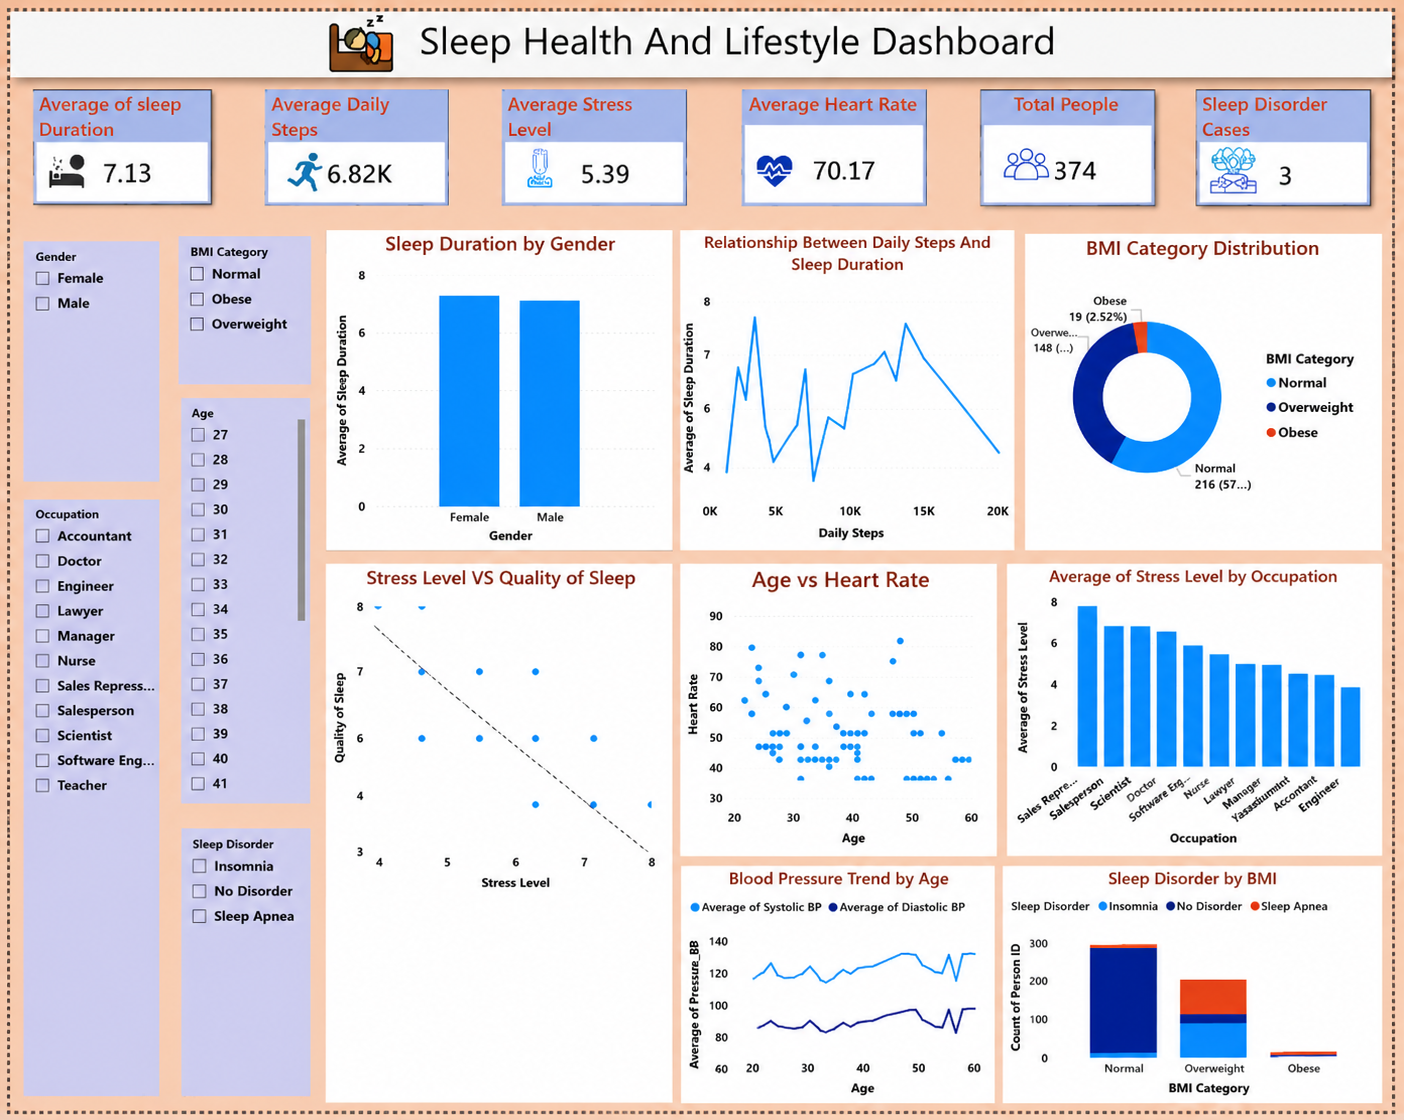

This screenshot's page, from the dashboard's own definition file:
{"tool":"powerbi","page":{"name":"Page 1","canvas":[1701,1296],"ordinal":0},"visuals":[{"type":"textbox","box":[0,0,1700.2,86.4],"z":0},{"type":"cardVisual","title":"Average of  sleep duration","fields":{"Data":["Avg(Sheet1.Sleep Duration)"]},"box":[32.5,101.2,221.2,130],"z":1000},{"type":"cardVisual","title":"Average Stress Level","fields":{"Data":["Avg(Sheet1.Stress Level)"]},"box":[593.8,105,221.2,126.2],"z":2000},{"type":"cardVisual","title":"Average  Daily Steps","fields":{"Data":["Avg(Sheet1.Daily Steps)"]},"box":[323.5,102.9,221,129],"z":3000},{"type":"cardVisual","title":"Average Heart Rate","fields":{"Data":["Avg(Sheet1.Heart Rate)"]},"box":[878.8,106.2,218.8,125],"z":4000},{"type":"cardVisual","title":"Total People","fields":{"Data":["CountNonNull(Sheet1.Person ID)"]},"box":[1160,110,222.5,125],"z":5000},{"type":"cardVisual","title":"Sleep Disorder Cases","fields":{"Data":["Count(Sheet1.Sleep Disorder)"]},"box":[1426.5,105.9,221,129],"z":6000},{"type":"clusteredColumnChart","title":"Sleep Duration by Gender","fields":{"Category":["Sheet1.Gender"],"Y":["Avg(Sheet1.Sleep Duration)"]},"box":[402.9,276.5,411.8,341.2],"z":7000},{"type":"scatterChart","title":"Stress Level VS Quality of Sleep","fields":{"Y":["Sheet1.Quality of Sleep"],"X":["Sheet1.Stress Level"]},"box":[397.1,647.1,417.6,611.8],"z":8000},{"type":"lineChart","title":"Relationship Between Daily Steps And Sleep Duration","fields":{"Category":["Sheet1.Daily Steps"],"Y":["Avg(Sheet1.Sleep Duration)"]},"box":[823.5,276.5,400,341.2],"z":9000},{"type":"donutChart","title":" BMI Category Distribution","fields":{"Category":["Sheet1.BMI Category"],"Y":["CountNonNull(Sheet1.Person ID)"]},"box":[1242.5,282.5,412.5,332.5],"z":10000},{"type":"scatterChart","title":"Age vs Heart Rate","fields":{"X":["Sheet1.Age"],"Y":["Sheet1.Heart Rate"]},"box":[823.5,647.1,379.4,320.6],"z":11000},{"type":"lineChart","title":"Blood Pressure Trend by Age","fields":{"Category":["Sheet1.Age"],"Y":["Avg(Sheet1.Systolic_BP)","Avg(Sheet1.Diastolic_BP)"]},"box":[832.4,985.3,379.4,273.5],"z":12000},{"type":"columnChart","title":"Average of Stress Level by Occupation","fields":{"Category":["Sheet1.Occupation"],"Y":["Avg(Sheet1.Stress Level)"]},"box":[1220,637.5,435,330],"z":13000},{"type":"columnChart","title":"Sleep Disorder by BMI","fields":{"Category":["Sheet1.BMI Category"],"Series":["Sheet1.Sleep Disorder"],"Y":["CountNonNull(Sheet1.Person ID)"]},"box":[1225,985,432.5,275],"z":14000},{"type":"slicer","fields":{"Values":["Sheet1.Gender"]},"box":[32.4,288.2,158.8,264.7],"z":15000},{"type":"slicer","fields":{"Values":["Sheet1.Age"]},"box":[222.5,465,157.5,465],"z":16000},{"type":"slicer","fields":{"Values":["Sheet1.Occupation"]},"box":[32.4,582.4,158.8,638.2],"z":17000},{"type":"slicer","fields":{"Values":["Sheet1.Sleep Disorder"]},"box":[220.6,958.8,158.8,261.8],"z":18000},{"type":"slicer","fields":{"Values":["Sheet1.BMI Category"]},"box":[218.6,275.3,159.2,172.7],"z":19000},{"type":"image","box":[255,0,237.5,87.5],"z":20000},{"type":"image","box":[32.5,170,78.8,42.5],"z":20001},{"type":"image","box":[338.8,100,61.2,188.8],"z":20002},{"type":"image","box":[581.2,166.2,115,46.2],"z":20003},{"type":"image","box":[891.2,122.5,43.8,132.5],"z":20004},{"type":"image","box":[1185,156.2,56.2,67.5],"z":20005},{"type":"image","box":[1440,145,61.2,98.8],"z":20006}]}

Visuals, with their boxes in screenshot pixels (x1, y1, x2, y2):
textbox: [x1=0, y1=4, x2=1403, y2=77]
"Average of  sleep duration" cardVisual: [x1=13, y1=89, x2=199, y2=199]
"Average Stress Level" cardVisual: [x1=486, y1=92, x2=673, y2=199]
"Average  Daily Steps" cardVisual: [x1=258, y1=90, x2=445, y2=199]
"Average Heart Rate" cardVisual: [x1=727, y1=93, x2=912, y2=199]
"Total People" cardVisual: [x1=964, y1=96, x2=1152, y2=202]
"Sleep Disorder Cases" cardVisual: [x1=1189, y1=93, x2=1376, y2=202]
"Sleep Duration by Gender" clusteredColumnChart: [x1=325, y1=237, x2=673, y2=525]
"Stress Level VS Quality of Sleep" scatterChart: [x1=320, y1=550, x2=673, y2=1066]
"Relationship Between Daily Steps And Sleep Duration" lineChart: [x1=680, y1=237, x2=1018, y2=525]
" BMI Category Distribution" donutChart: [x1=1034, y1=242, x2=1382, y2=523]
"Age vs Heart Rate" scatterChart: [x1=680, y1=550, x2=1001, y2=820]
"Blood Pressure Trend by Age" lineChart: [x1=688, y1=835, x2=1008, y2=1066]
"Average of Stress Level by Occupation" columnChart: [x1=1015, y1=542, x2=1382, y2=820]
"Sleep Disorder by BMI" columnChart: [x1=1019, y1=835, x2=1384, y2=1067]
slicer - Sheet1.Gender: [x1=13, y1=247, x2=147, y2=470]
slicer - Sheet1.Age: [x1=173, y1=396, x2=306, y2=788]
slicer - Sheet1.Occupation: [x1=13, y1=495, x2=147, y2=1034]
slicer - Sheet1.Sleep Disorder: [x1=172, y1=813, x2=306, y2=1034]
slicer - Sheet1.BMI Category: [x1=170, y1=236, x2=304, y2=382]
image: [x1=201, y1=4, x2=401, y2=78]
image: [x1=13, y1=147, x2=79, y2=183]
image: [x1=271, y1=88, x2=323, y2=247]
image: [x1=476, y1=144, x2=573, y2=183]
image: [x1=737, y1=107, x2=774, y2=219]
image: [x1=985, y1=135, x2=1033, y2=192]
image: [x1=1201, y1=126, x2=1252, y2=209]
